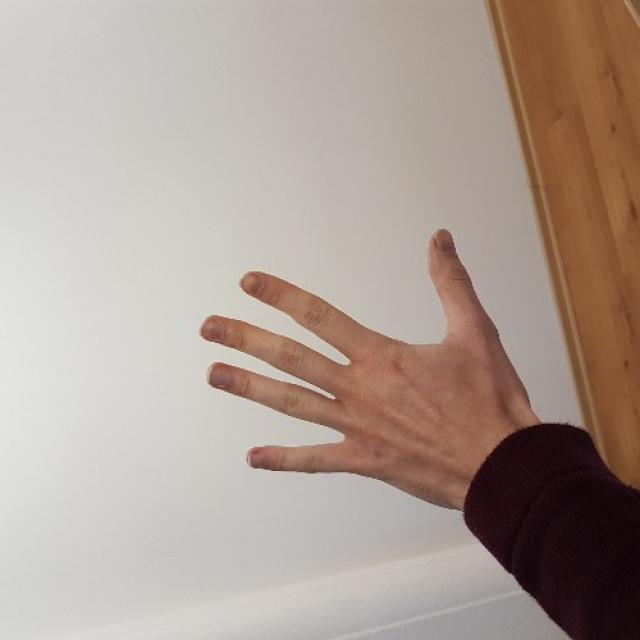paper: (203, 231, 488, 476)
